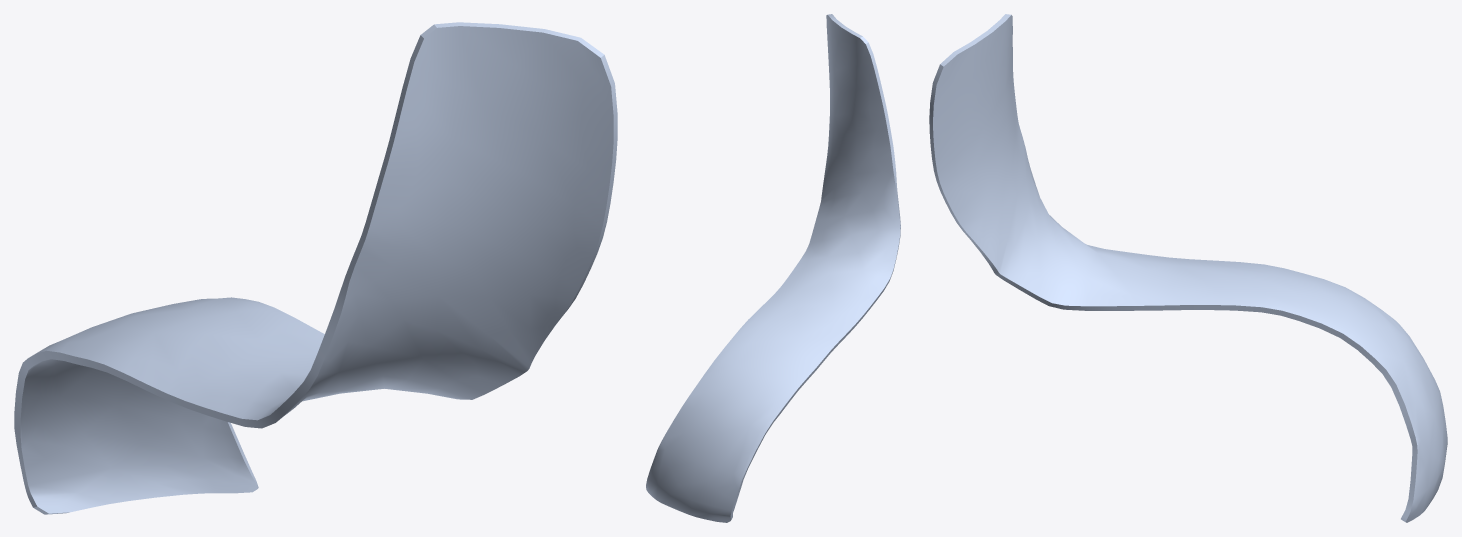
Rendered from rh_middle_toe.fbx.
The picture shows the model from 3 angles, left to right: view 1: azimuth 30°, elevation 25°; view 2: azimuth 150°, elevation 25°; view 3: azimuth 270°, elevation 25°; orthographic projection. The views are drawn at different scales.
Visible parts, largest first — view 1: middle; view 2: middle; view 3: middle.
Part boxes in pixels (x1=…): middle: x1=14, y1=22, x2=617, y2=514; middle: x1=646, y1=14, x2=900, y2=522; middle: x1=929, y1=14, x2=1447, y2=522.
Bounding box in the file's own units: 317 × 830 × 828.
